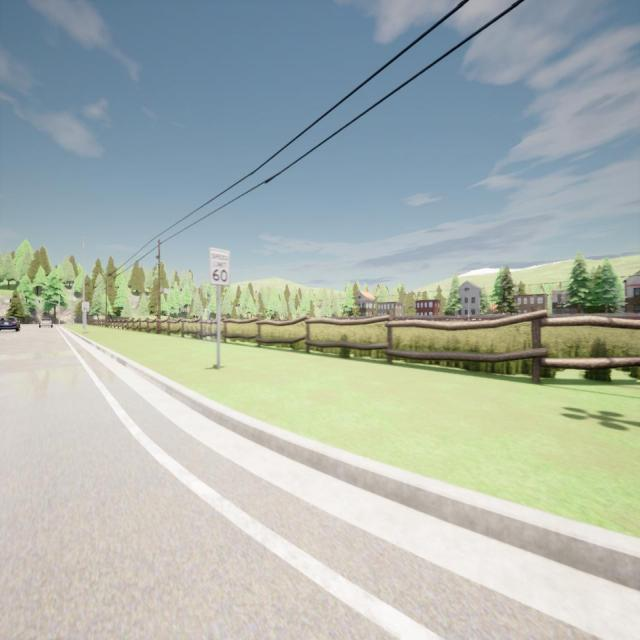Traffic_Signs: (210, 249, 229, 284), (82, 302, 90, 311)
Vehicle: (0, 316, 21, 332), (39, 317, 53, 328)
